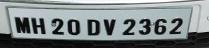0: (66, 18, 80, 35)
2: (50, 16, 65, 35), (168, 16, 182, 34), (121, 17, 135, 34)
3: (137, 17, 151, 34)
6: (152, 17, 166, 34)
D: (85, 18, 101, 35)
H: (30, 15, 46, 34)
M: (13, 14, 31, 33)
V: (101, 17, 116, 36)
